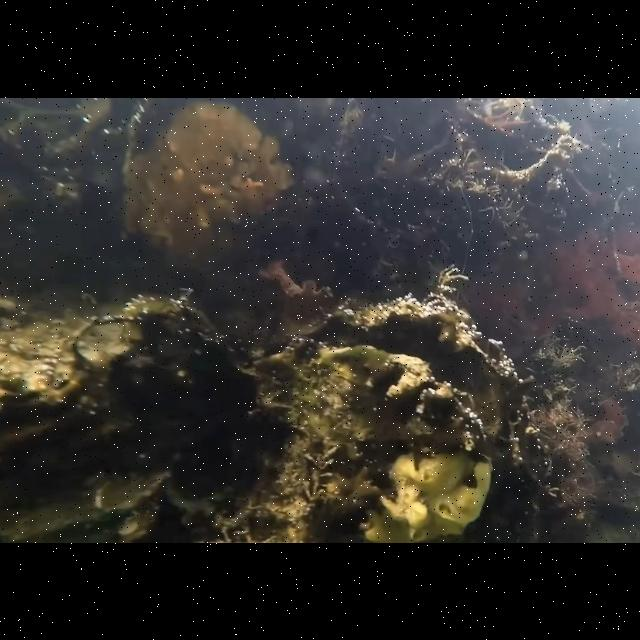Oyster-Closed: (120, 98, 294, 274)
Oyster-Open: (252, 296, 504, 542), (0, 290, 184, 447), (0, 468, 170, 542)
